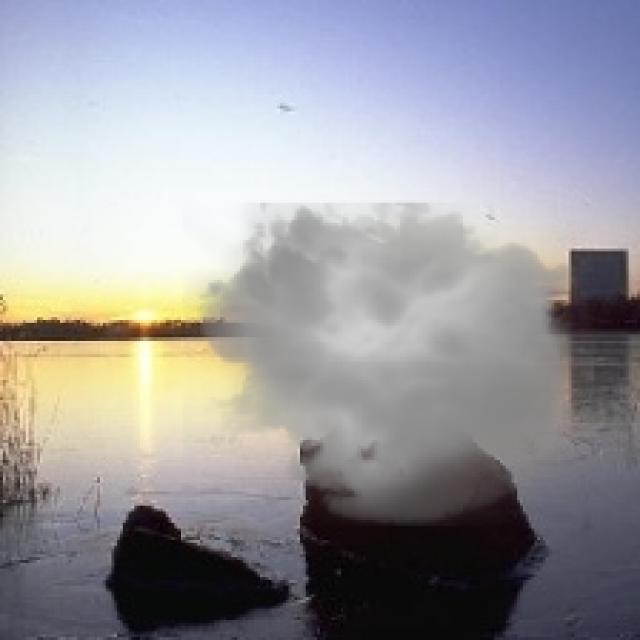smoke: (183, 186, 594, 537)
